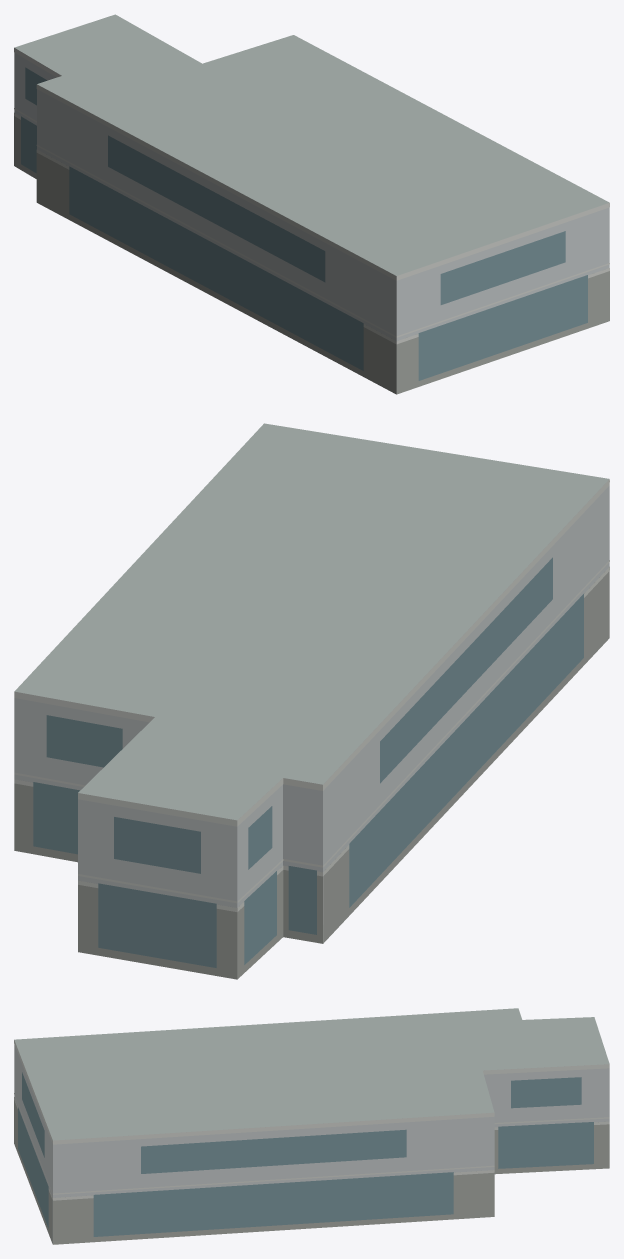
The model's file is survey-upis-32633974.glb.
3 views of the same model, one above another, from view 1: azimuth 30°, elevation 25°; view 2: azimuth 150°, elevation 25°; view 3: azimuth 270°, elevation 25° (orthographic). The views are drawn at different scales.
Parts seen in each view (by area): view 1: survey-upis-32633974.tmp; view 2: survey-upis-32633974.tmp; view 3: survey-upis-32633974.tmp.
Boxes of the visible parts, <box> form: survey-upis-32633974.tmp: <box>14,14,609,394</box>; survey-upis-32633974.tmp: <box>14,423,609,979</box>; survey-upis-32633974.tmp: <box>14,1008,609,1244</box>.
Size of the model in its own units: 16.65 by 6.1 by 31.62.
